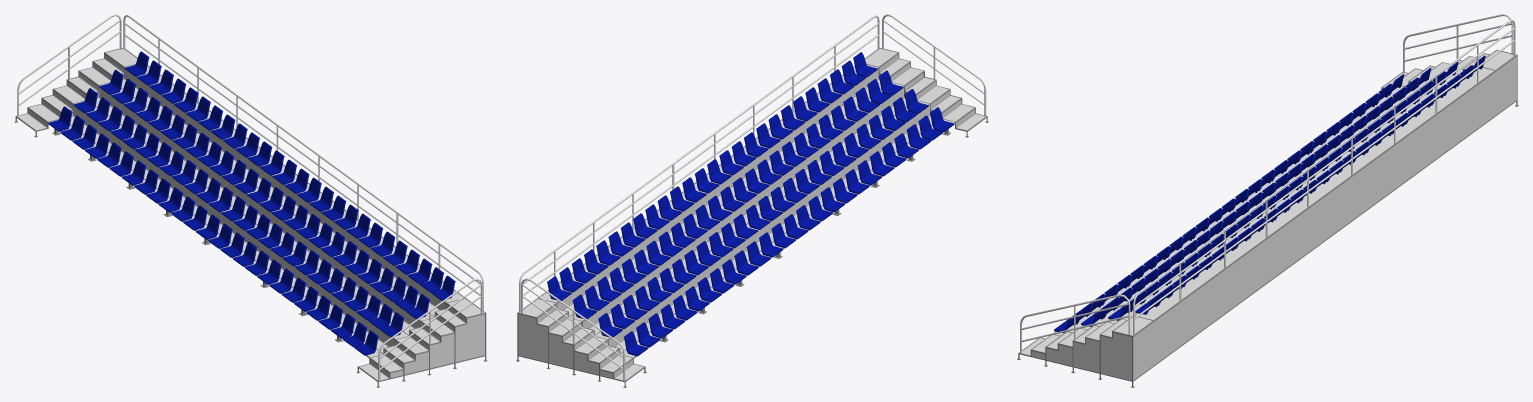
Rendered from ArquibancadaPIscina.FBX.
3 views of the same model, side by side, from view 1: azimuth 30°, elevation 25°; view 2: azimuth 150°, elevation 25°; view 3: azimuth 330°, elevation 25° (orthographic). The views are drawn at different scales.
Visible parts, largest first — view 1: Cadeiras016, ArquibancadaPisicnaPiso006, ArquibancadaPiscinaCorrimao006, ArquibancadaEscadaMetal006; view 2: Cadeiras016, ArquibancadaPisicnaPiso006, ArquibancadaPiscinaCorrimao006, ArquibancadaEscadaMetal006; view 3: ArquibancadaPisicnaPiso006, Cadeiras016, ArquibancadaPiscinaCorrimao006, ArquibancadaEscadaMetal006.
Part boxes in pixels (box(x1,y1,x2,y2)): Cadeiras016: box(48, 51, 455, 355); ArquibancadaPisicnaPiso006: box(18, 48, 484, 380); ArquibancadaPiscinaCorrimao006: box(17, 14, 483, 380); ArquibancadaEscadaMetal006: box(14, 47, 487, 387); Cadeiras016: box(547, 52, 954, 356); ArquibancadaPisicnaPiso006: box(518, 48, 985, 380); ArquibancadaPiscinaCorrimao006: box(519, 14, 986, 380); ArquibancadaEscadaMetal006: box(516, 47, 988, 387); ArquibancadaPisicnaPiso006: box(1022, 50, 1516, 380); Cadeiras016: box(1054, 55, 1485, 332); ArquibancadaPiscinaCorrimao006: box(1020, 14, 1515, 353); ArquibancadaEscadaMetal006: box(1017, 49, 1518, 387).
Size of the model in its own units: 3.19 by 2.36 by 18.29.
